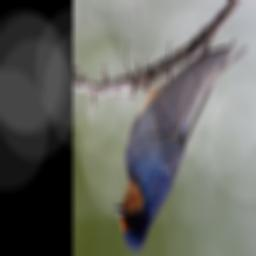Swallow: (113, 37, 248, 255)
